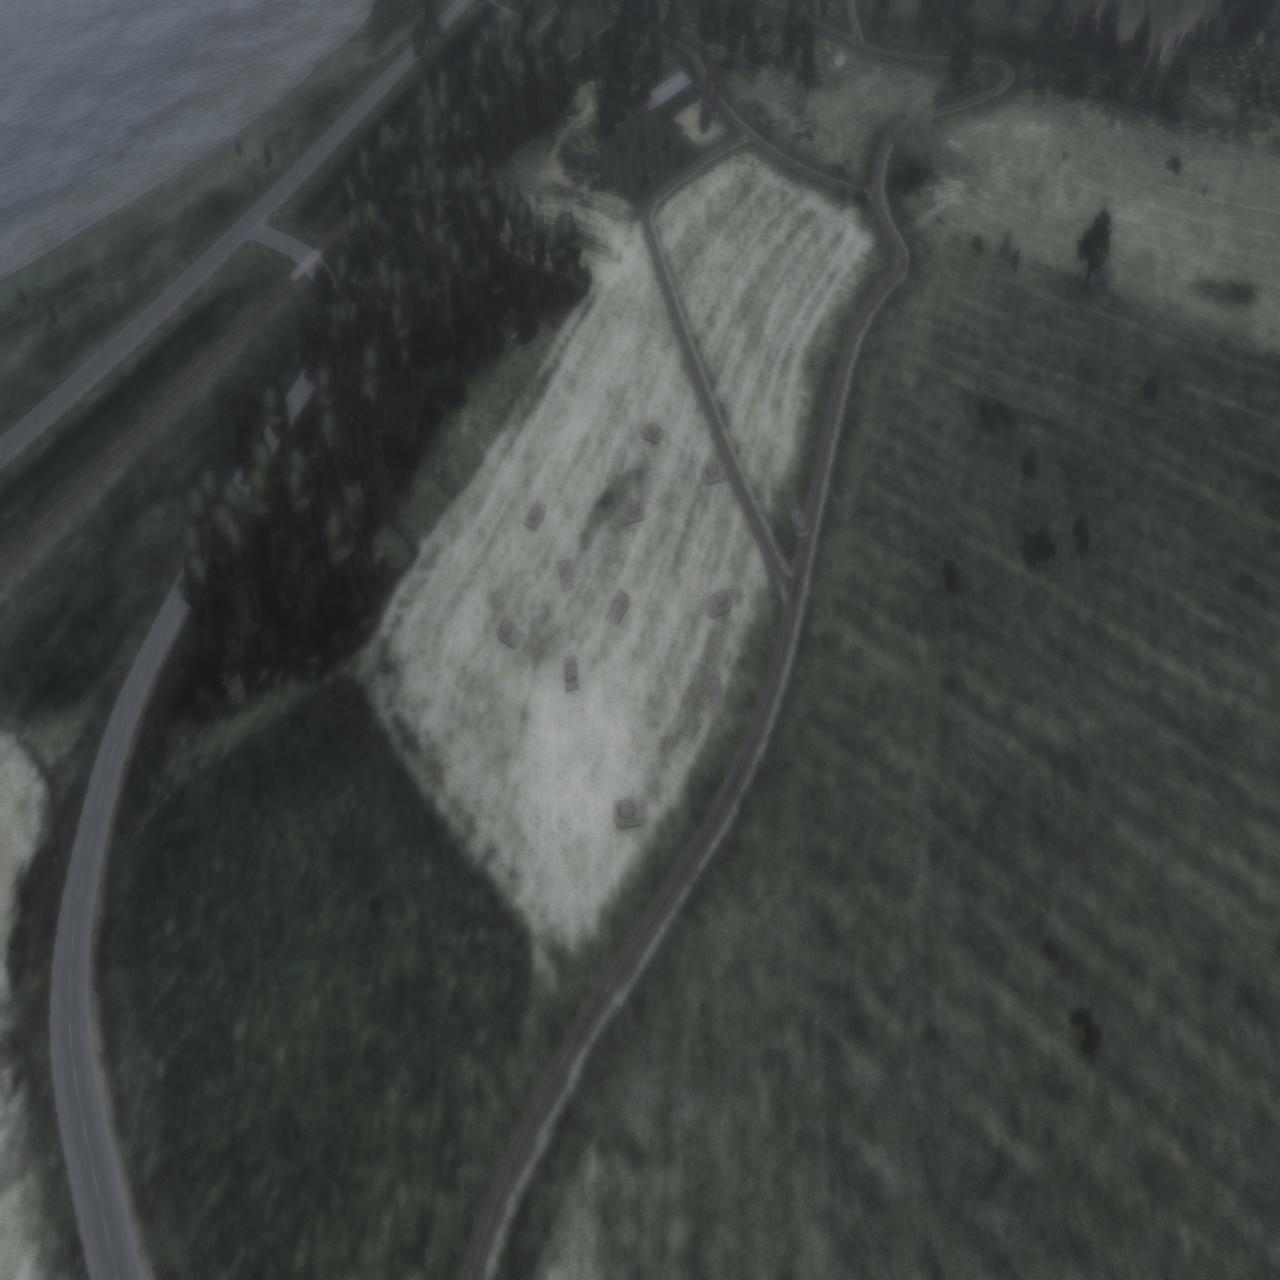MIL_Veh: (495, 614, 526, 652), (613, 799, 648, 830), (524, 501, 547, 537), (639, 414, 665, 447), (789, 499, 810, 539), (606, 588, 631, 622), (703, 590, 733, 618), (707, 674, 724, 717), (615, 499, 644, 526), (563, 653, 580, 694), (556, 560, 577, 594), (703, 462, 731, 486)
